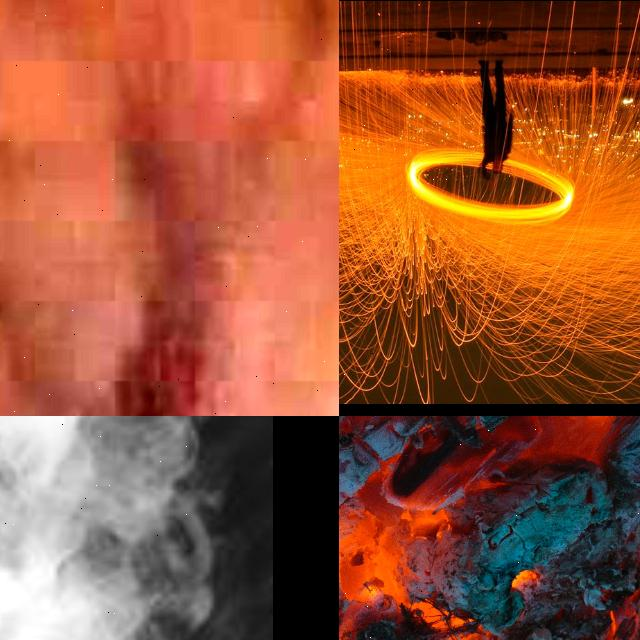fire: (339, 416, 640, 640), (339, 78, 494, 405)
smoke: (0, 0, 339, 416), (0, 416, 182, 640)
